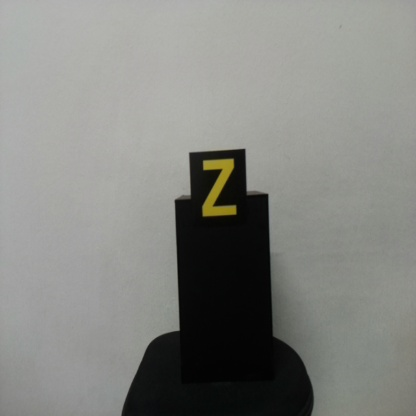id_15: (190, 152, 247, 224)
